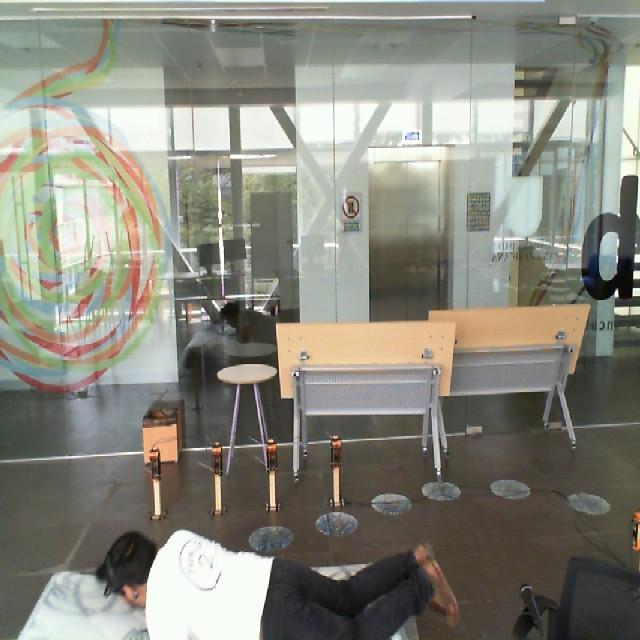fall detected: (91, 498, 473, 640)
